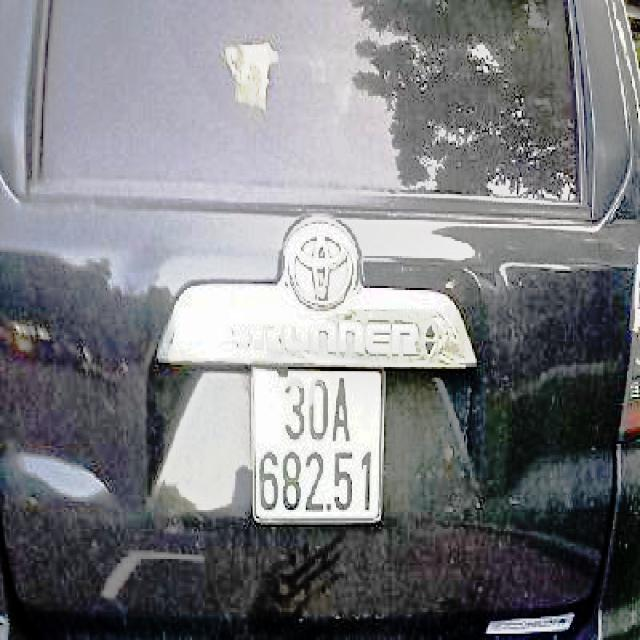license_plate: (255, 370, 386, 520)
